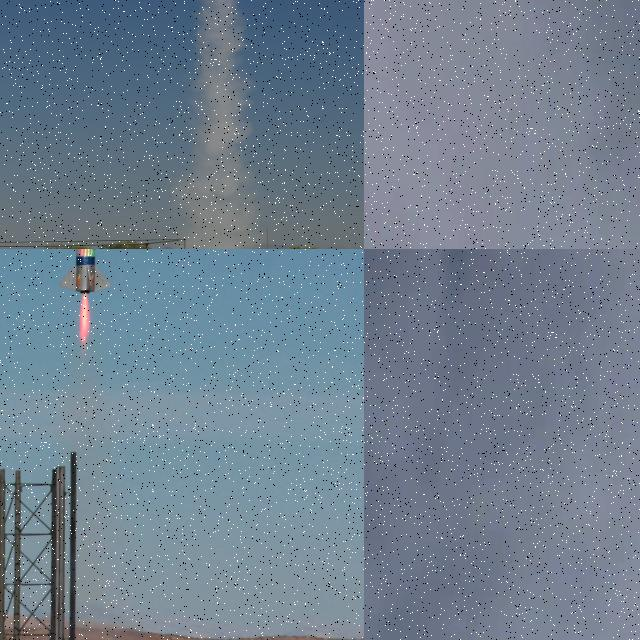Rocket: (59, 249, 111, 294)
